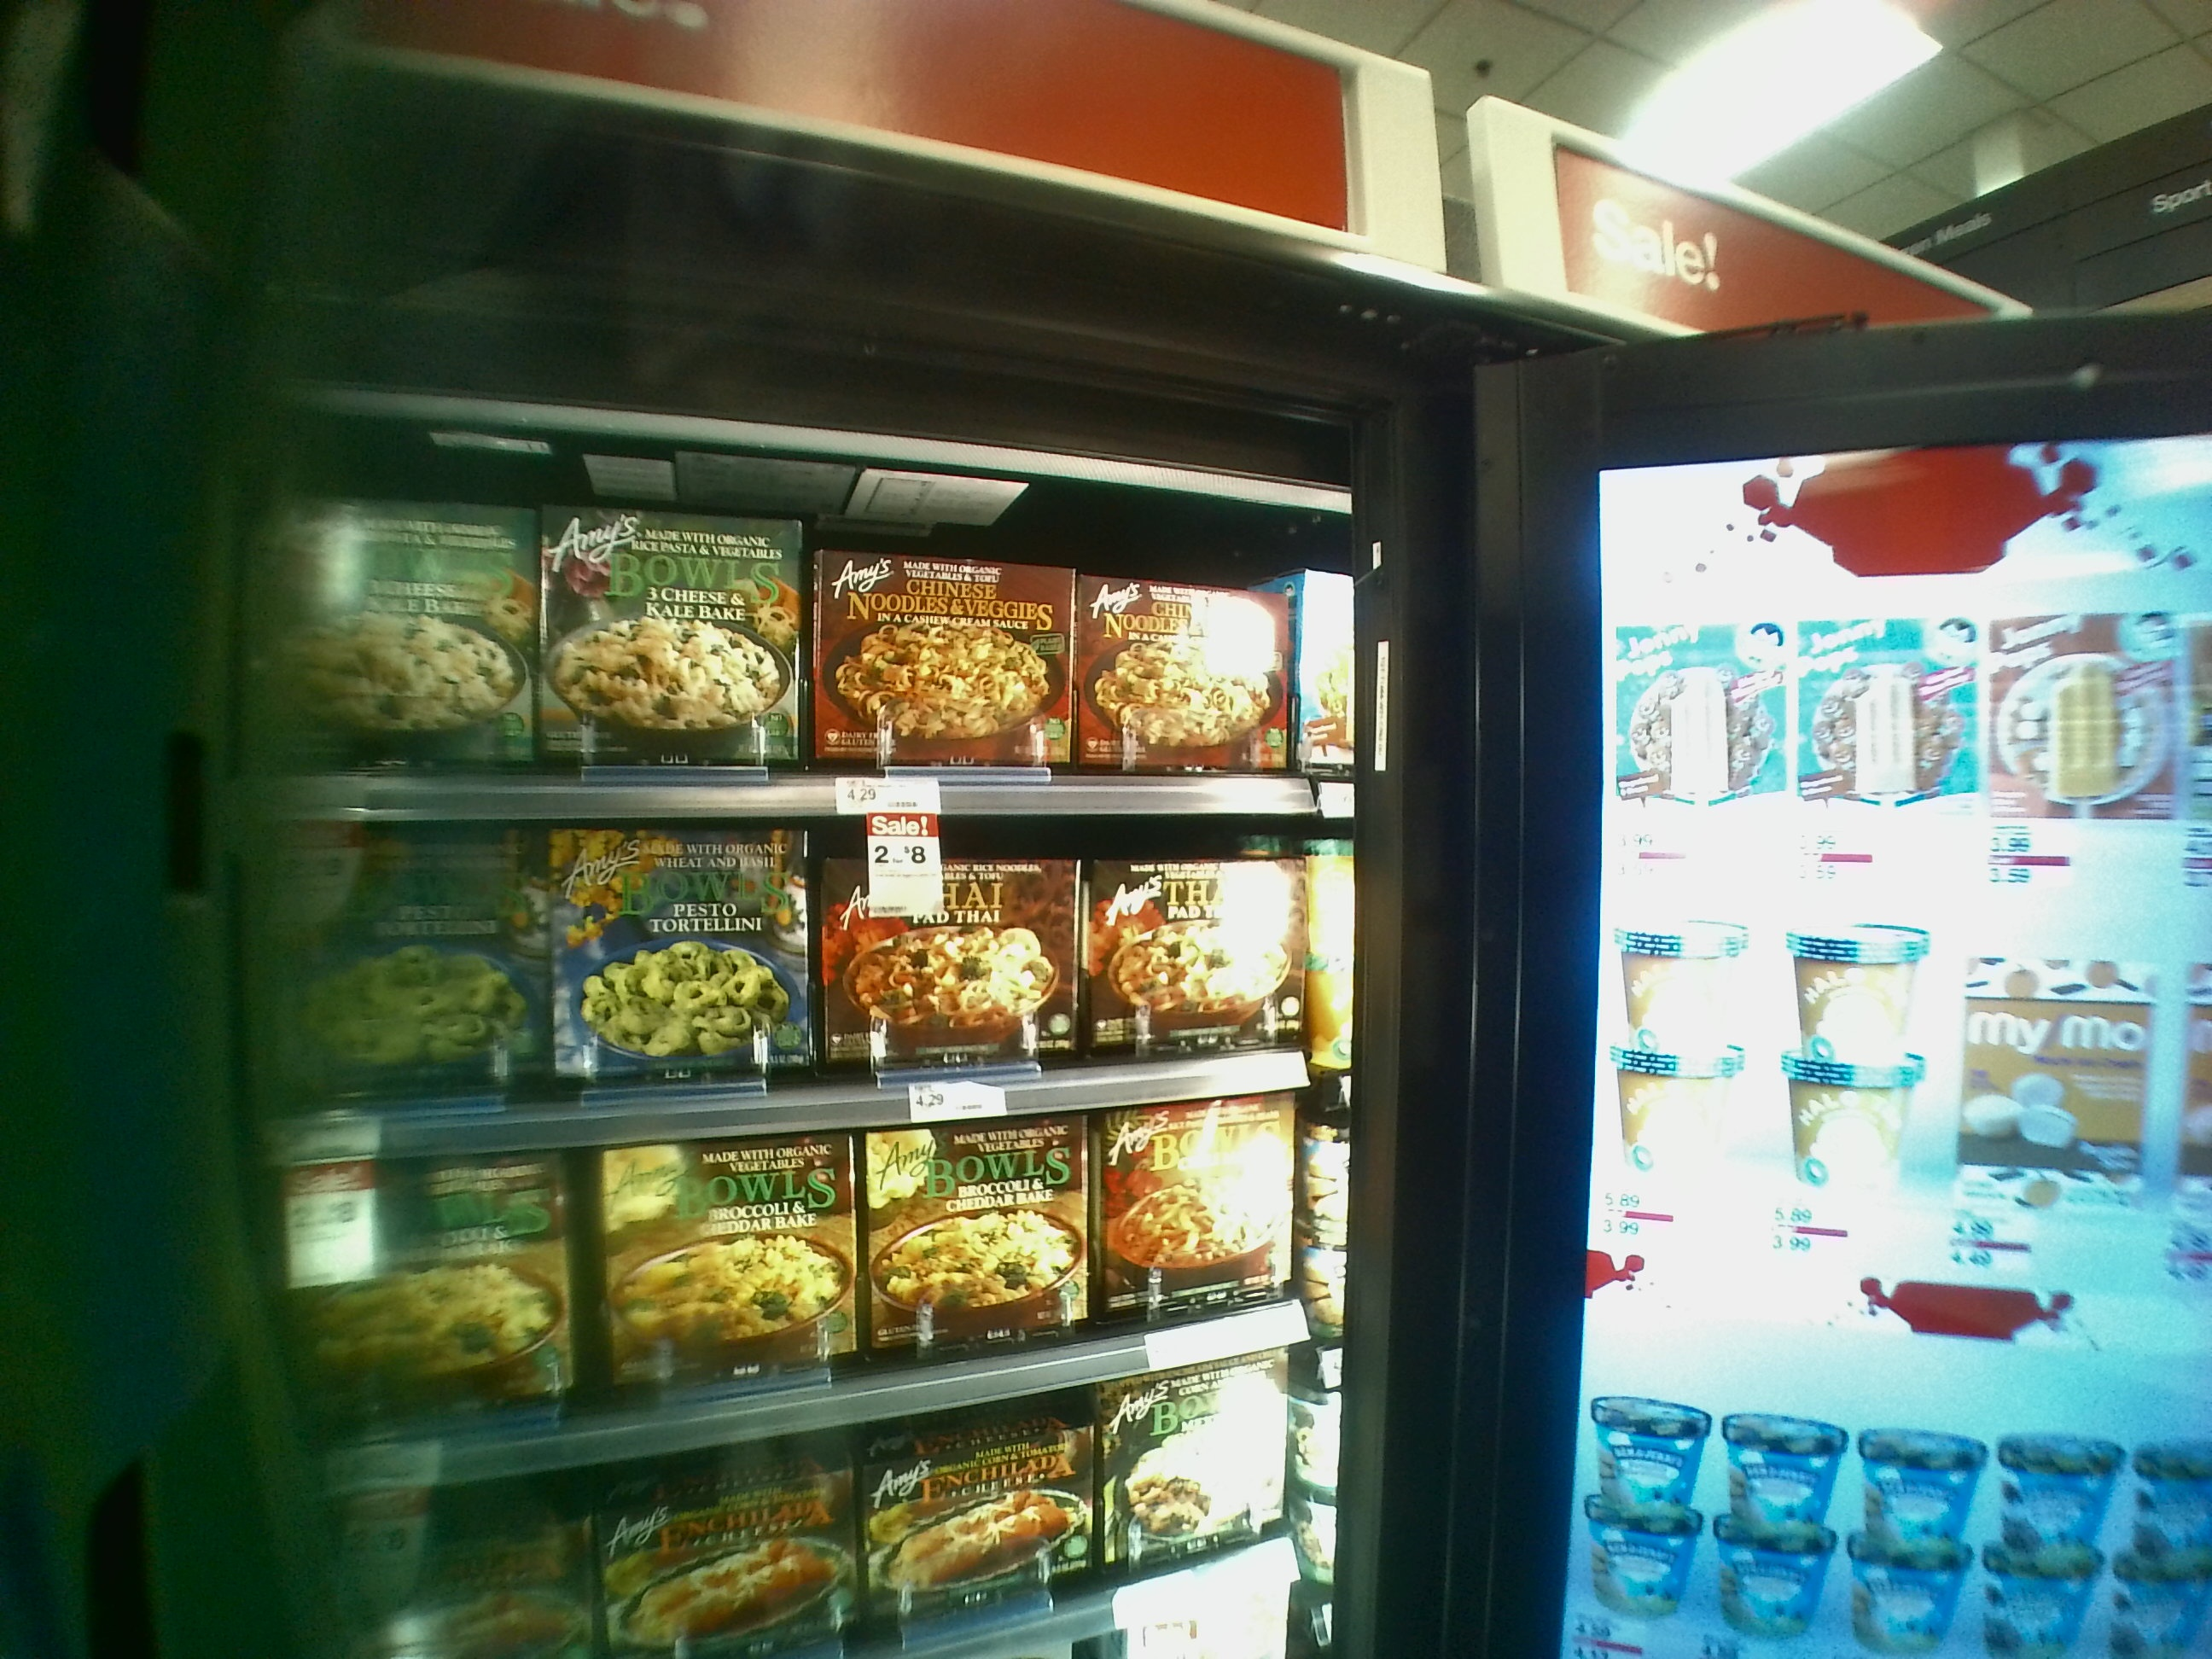shelf: (258, 432, 1343, 824), (272, 796, 1318, 1127), (319, 1100, 1331, 1413)
